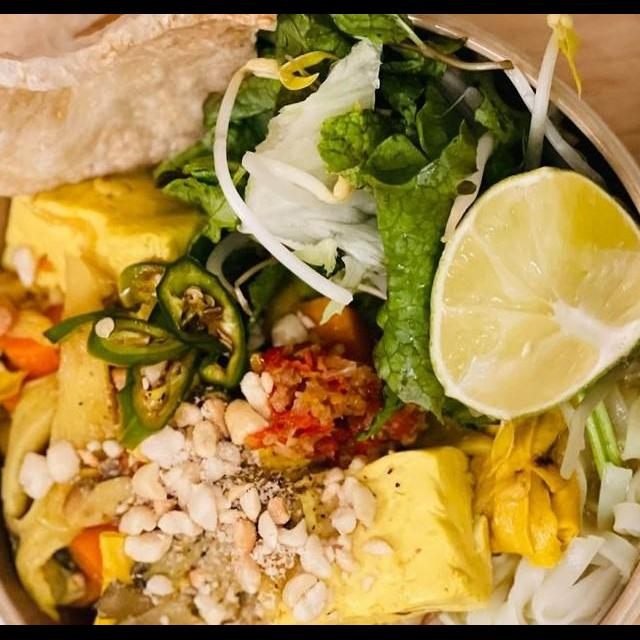banh da: (0, 15, 283, 204)
mi: (416, 348, 640, 625)
